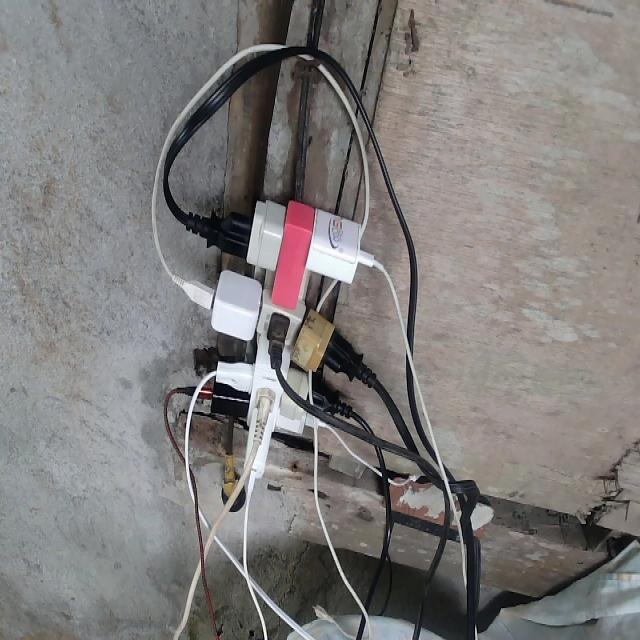-: (193, 195, 366, 481)
